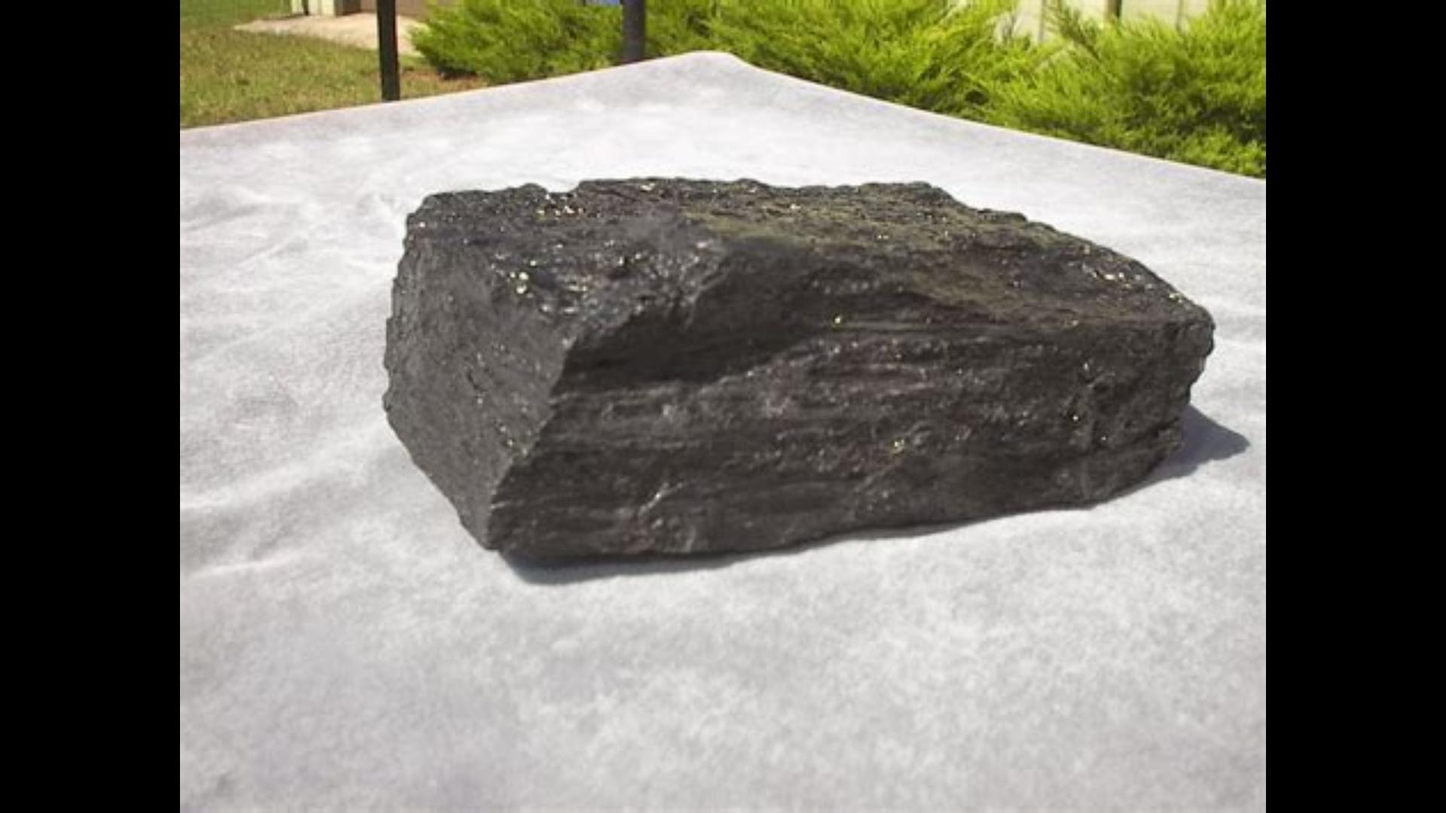rock: (388, 179, 1211, 554)
